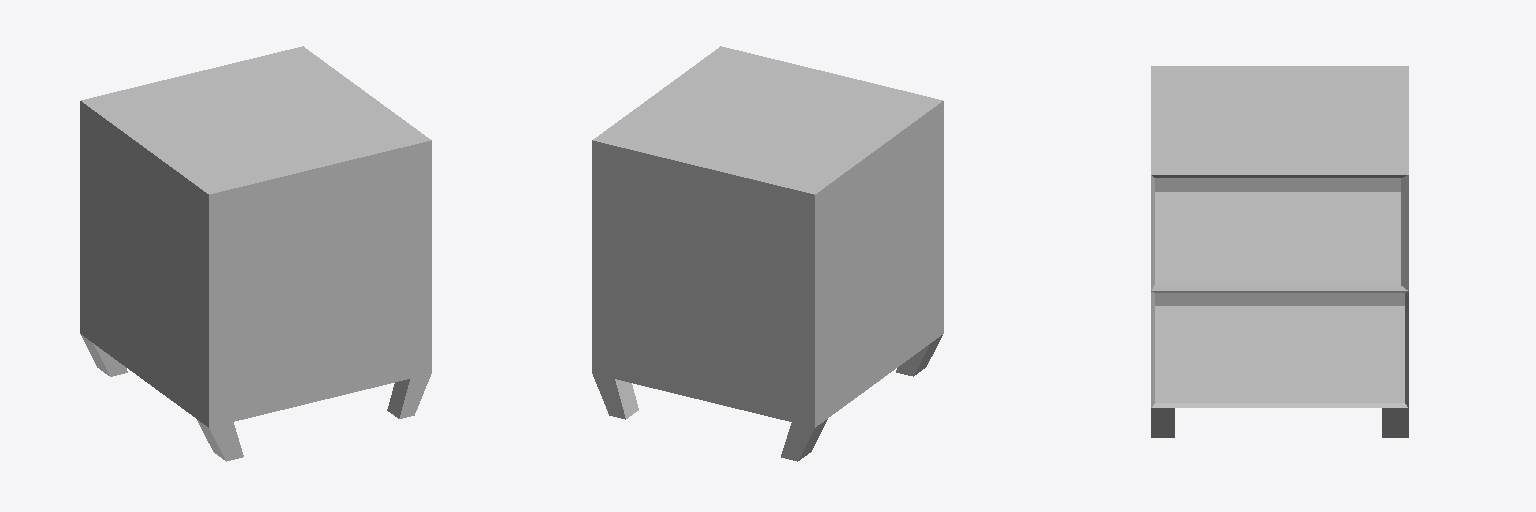
Rendered from End_Table3.obj.
The picture shows the model from 3 angles: view 1: azimuth 30°, elevation 25°; view 2: azimuth 150°, elevation 25°; view 3: azimuth 270°, elevation 25°; orthographic projection.
Parts seen in each view (by area): view 1: Cube; view 2: Cube; view 3: Cube.
Boxes of the visible parts, <box> form: Cube: <box>80,46,431,461</box>; Cube: <box>592,46,943,461</box>; Cube: <box>1151,66,1408,437</box>.
Bounding box in the file's own units: 3.98 × 4.63 × 3.98.